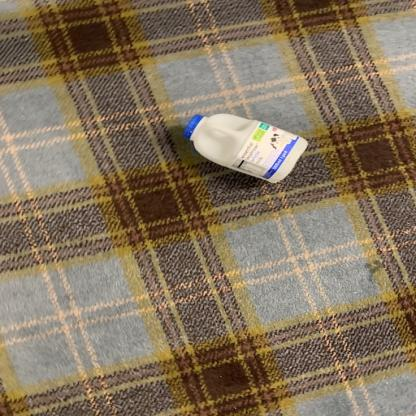trash: (180, 115, 316, 185)
